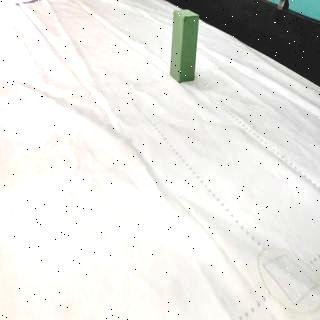greenbox: (168, 8, 199, 84)
